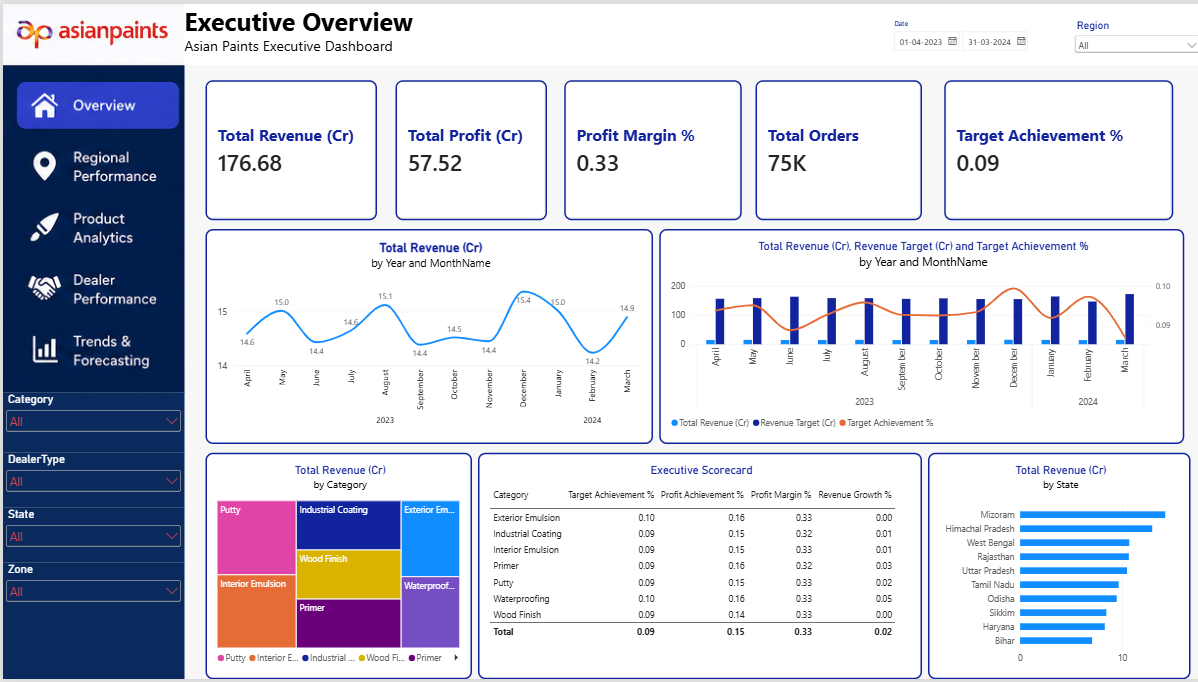

The dashboard page shown, as its layout file describes it:
{"tool":"powerbi","page":{"name":"Page 1","canvas":[1920,1080],"ordinal":0},"visuals":[{"type":"image","box":[0,0,290,98],"z":0},{"type":"image","box":[0,98,290,524],"z":1},{"type":"slicer","fields":{"Values":["DimProduct.Category"]},"box":[0,622,290,96],"z":2},{"type":"slicer","fields":{"Values":["DimDealer.DealerType"]},"box":[0,718,290,88],"z":3},{"type":"slicer","fields":{"Values":["DimDealer.State"]},"box":[0,806,290,88],"z":4},{"type":"slicer","fields":{"Values":["DimRegion.Zone"]},"box":[0,894,290,186],"z":5},{"type":"shape","box":[290,0,1630,98],"z":6},{"type":"shape","box":[290,50,1630,48],"z":7},{"type":"slicer","fields":{"Values":["DimDate.Date"]},"box":[1418,24,272,98],"z":8},{"type":"slicer","fields":{"Values":["DimRegion.Region"]},"box":[1710,24,210,98],"z":9},{"type":"cardVisual","fields":{"Data":["Core KPIs.Total Revenue (Cr)"]},"box":[324,122,274,224],"z":10},{"type":"cardVisual","fields":{"Data":["Core KPIs.Total Profit (Cr)"]},"box":[628,122,242,224],"z":11},{"type":"cardVisual","fields":{"Data":["Core KPIs.Profit Margin %"]},"box":[898,122,284,224],"z":12},{"type":"cardVisual","fields":{"Data":["Core KPIs.Total Orders"]},"box":[1204,122,266,224],"z":13},{"type":"cardVisual","fields":{"Data":["Core KPIs.Target Achievement %"]},"box":[1506,122,366,224],"z":14},{"type":"lineChart","fields":{"Category":["DimDate.Year","DimDate.MonthName"],"Y":["Core KPIs.Total Revenue (Cr)"]},"box":[324,360,716,344],"z":15},{"type":"lineClusteredColumnComboChart","fields":{"Category":["DimDate.Year","DimDate.MonthName"],"Y":["Core KPIs.Total Revenue (Cr)","Core KPIs.Revenue Target (Cr)"],"Y2":["Core KPIs.Target Achievement %"]},"box":[1050,360,840,344],"z":16},{"type":"treemap","fields":{"Group":["DimProduct.Category"],"Values":["Core KPIs.Total Revenue (Cr)"]},"box":[324,718,426,362],"z":17},{"type":"tableEx","title":"Executive Scorecard","fields":{"Values":["DimProduct.Category","Core KPIs.Target Achievement %","Scorecard.Profit Achievement %","Core KPIs.Profit Margin %","Previous Year.Revenue Growth %"]},"box":[760,718,710,362],"z":18},{"type":"barChart","fields":{"Category":["DimRegion.State"],"Y":["Core KPIs.Total Revenue (Cr)"]},"box":[1480,718,420,362],"z":19}]}

Visuals, with their boxes in screenshot pixels (x1, y1, x2, y2):
image: {"left": 0, "top": 0, "right": 182, "bottom": 56}
image: {"left": 0, "top": 56, "right": 182, "bottom": 391}
slicer - DimProduct.Category: {"left": 0, "top": 391, "right": 182, "bottom": 452}
slicer - DimDealer.DealerType: {"left": 0, "top": 452, "right": 182, "bottom": 508}
slicer - DimDealer.State: {"left": 0, "top": 508, "right": 182, "bottom": 564}
slicer - DimRegion.Zone: {"left": 0, "top": 564, "right": 182, "bottom": 681}
shape: {"left": 182, "top": 0, "right": 1197, "bottom": 56}
shape: {"left": 182, "top": 26, "right": 1197, "bottom": 56}
slicer - DimDate.Date: {"left": 901, "top": 9, "right": 1075, "bottom": 72}
slicer - DimRegion.Region: {"left": 1088, "top": 9, "right": 1197, "bottom": 72}
cardVisual - Core KPIs.Total Revenue (Cr): {"left": 204, "top": 72, "right": 378, "bottom": 214}
cardVisual - Core KPIs.Total Profit (Cr): {"left": 398, "top": 72, "right": 552, "bottom": 214}
cardVisual - Core KPIs.Profit Margin %: {"left": 570, "top": 72, "right": 751, "bottom": 214}
cardVisual - Core KPIs.Total Orders: {"left": 765, "top": 72, "right": 935, "bottom": 214}
cardVisual - Core KPIs.Target Achievement %: {"left": 958, "top": 72, "right": 1191, "bottom": 214}
lineChart - DimDate.Year x DimDate.MonthName: {"left": 204, "top": 223, "right": 660, "bottom": 443}
lineClusteredColumnComboChart - DimDate.Year x DimDate.MonthName: {"left": 667, "top": 223, "right": 1197, "bottom": 443}
treemap - DimProduct.Category x Core KPIs.Total Revenue (Cr): {"left": 204, "top": 452, "right": 475, "bottom": 681}
"Executive Scorecard" tableEx: {"left": 482, "top": 452, "right": 935, "bottom": 681}
barChart - DimRegion.State x Core KPIs.Total Revenue (Cr): {"left": 941, "top": 452, "right": 1197, "bottom": 681}
